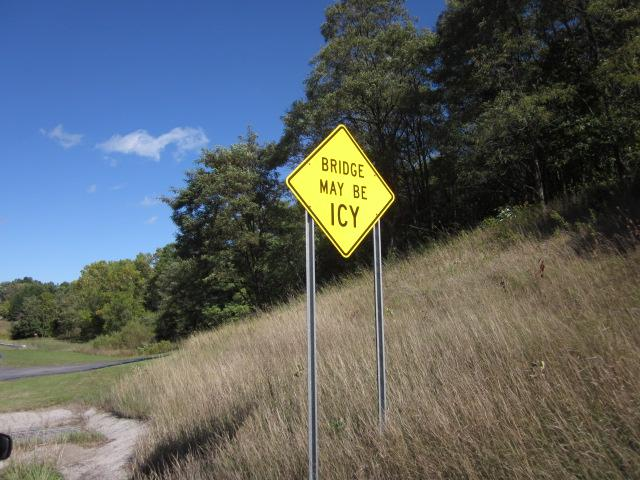warning: (287, 125, 401, 259)
